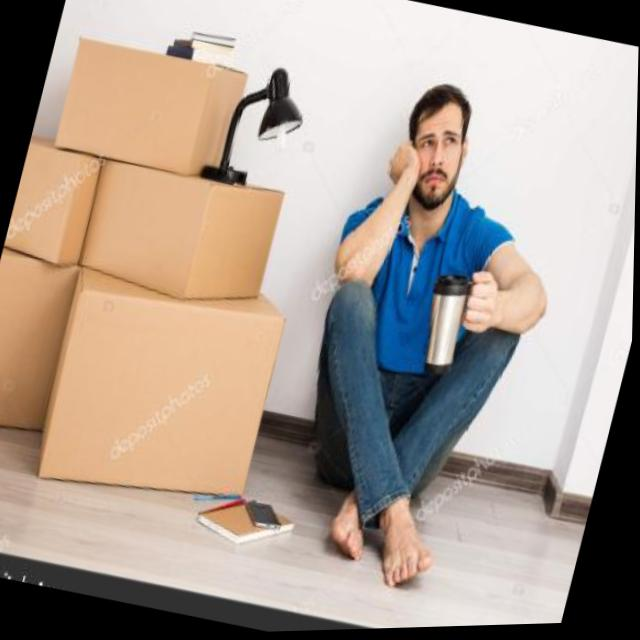box: (13, 250, 302, 541), (43, 17, 274, 207), (77, 145, 310, 331), (0, 227, 95, 472), (0, 105, 117, 287)
